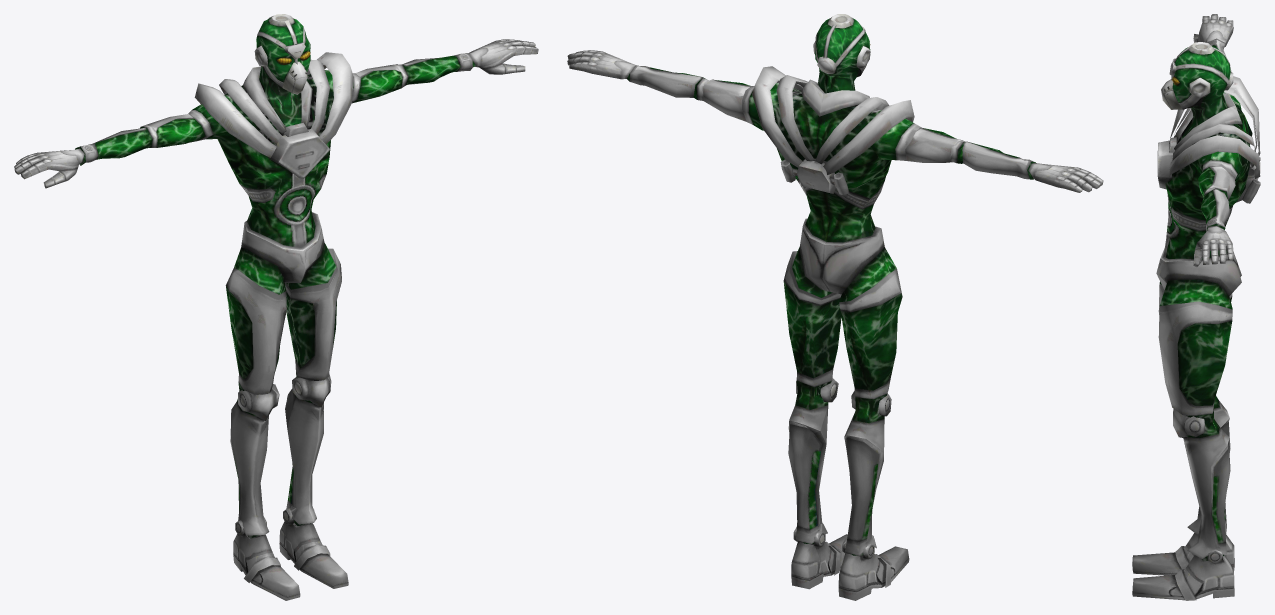
The model's file is hierophant_green_dr.glb.
3 views of the same model, side by side, from view 1: azimuth 30°, elevation 25°; view 2: azimuth 150°, elevation 25°; view 3: azimuth 270°, elevation 25° (orthographic). The views are drawn at different scales.
Visible parts, largest first — view 1: Object_2; view 2: Object_2; view 3: Object_2.
Boxes of the visible parts, left/top/right/bottom form: Object_2: left=14, top=14, right=538, bottom=600; Object_2: left=567, top=14, right=1103, bottom=600; Object_2: left=1132, top=14, right=1260, bottom=600.
Size of the model in its own units: 1.76 by 1.78 by 0.3863.
Materials: 1 (1 with a texture image).
